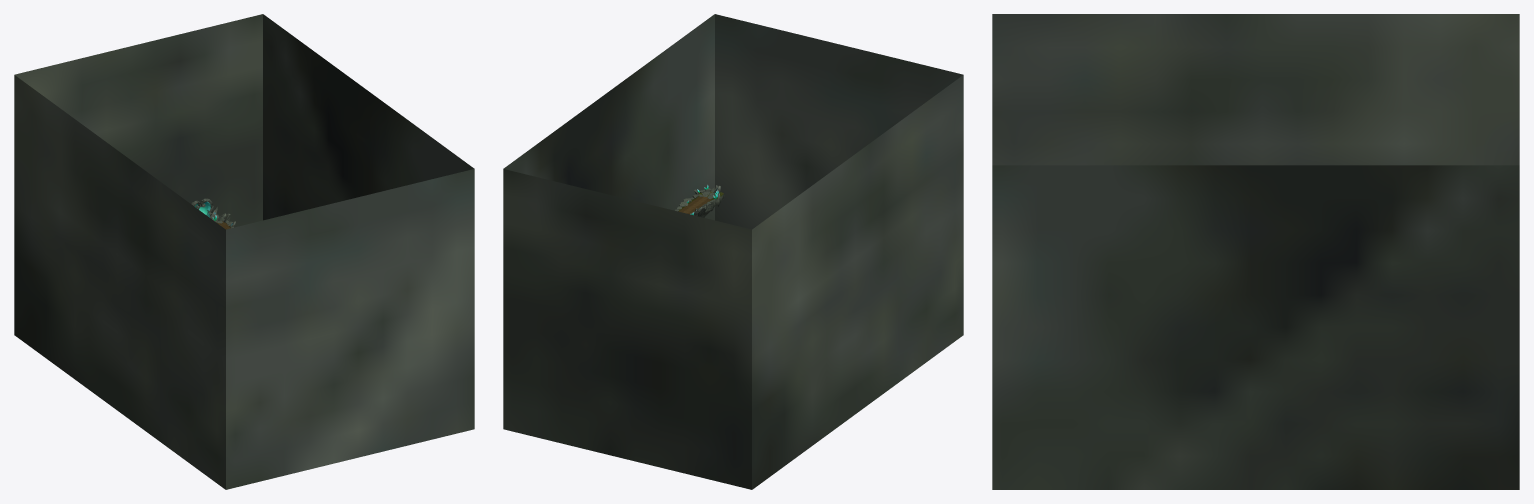
The model's file is Scene_shengmingzhijing.fbx.
The picture shows the model from 3 angles, left to right: view 1: azimuth 30°, elevation 25°; view 2: azimuth 150°, elevation 25°; view 3: azimuth 270°, elevation 25°; orthographic projection. The views are drawn at different scales.
Parts seen in each view (by area): view 1: Scene_shengmingzhijing_a1; view 2: Scene_shengmingzhijing_a1; view 3: Scene_shengmingzhijing_a1.
Boxes of the visible parts, x1,y1,x2,y2 form: Scene_shengmingzhijing_a1: [14, 14, 474, 489]; Scene_shengmingzhijing_a1: [503, 14, 963, 489]; Scene_shengmingzhijing_a1: [992, 14, 1519, 489].
Size of the model in its own units: 8671 by 8671 by 12769.
